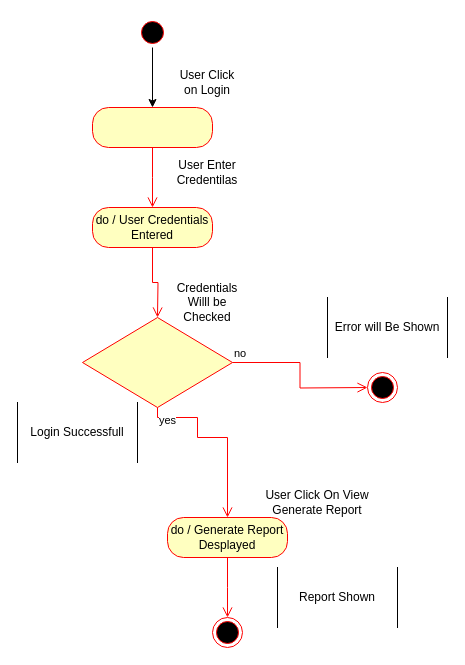
The diagram is 465 pixels wide and 665 high, and some of its shapes have lost their labels. The shapes that lost their labels are listed below. From the top down, each one's box as (x1, y1, x2, y2) in pixels, then its label:
(92, 106, 212, 148): do / Login Page Shown
(82, 316, 232, 408): do / Credentials Checked By the System
